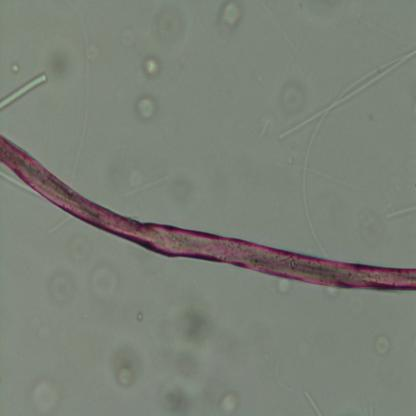Background material: (154, 296, 215, 412), (107, 338, 145, 388), (89, 264, 124, 302), (154, 7, 186, 48), (42, 46, 69, 86), (29, 375, 58, 412), (277, 82, 302, 124), (48, 270, 78, 300), (216, 3, 240, 38), (131, 96, 159, 124), (215, 389, 241, 416), (369, 329, 391, 357), (138, 57, 161, 81), (10, 63, 20, 76)
Glass filter fibre: (300, 55, 412, 258), (277, 50, 416, 138), (70, 11, 93, 186), (0, 72, 48, 112), (124, 177, 164, 198), (0, 173, 35, 195), (302, 390, 322, 415), (47, 216, 73, 235), (387, 204, 416, 220), (258, 117, 272, 137)
Microfibre: (0, 134, 416, 292)
